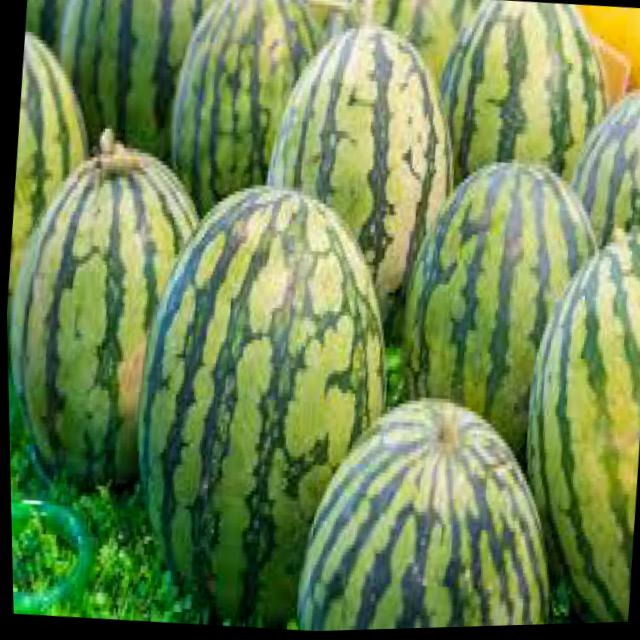watermelon: (120, 175, 401, 630), (2, 123, 206, 473), (288, 386, 559, 633), (389, 156, 602, 455), (255, 18, 460, 320), (503, 224, 640, 628), (163, 0, 323, 222), (431, 0, 614, 193), (49, 0, 197, 159), (562, 83, 640, 250)
